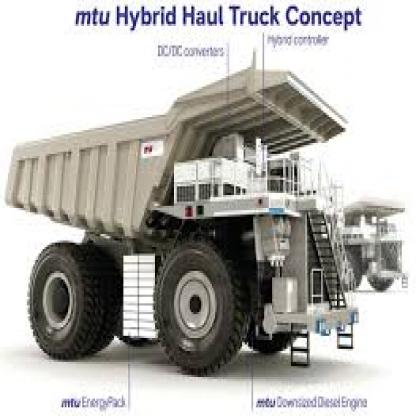dump_truck: (3, 58, 369, 375)
